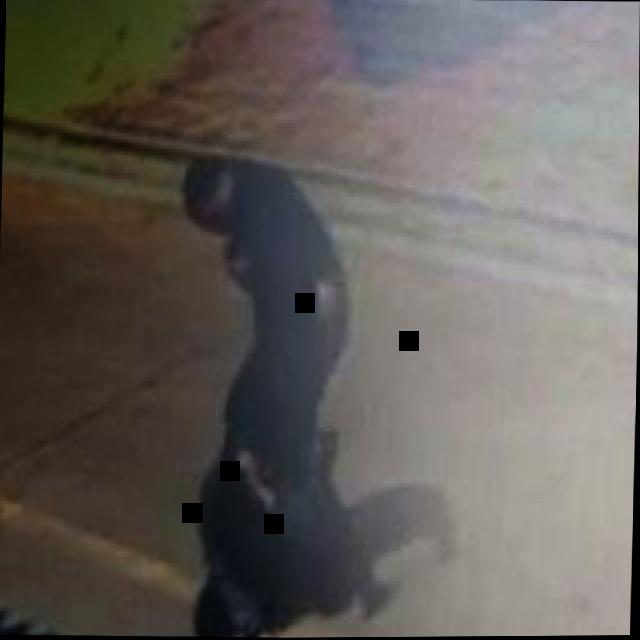Fall-Detected: (181, 424, 417, 639)
